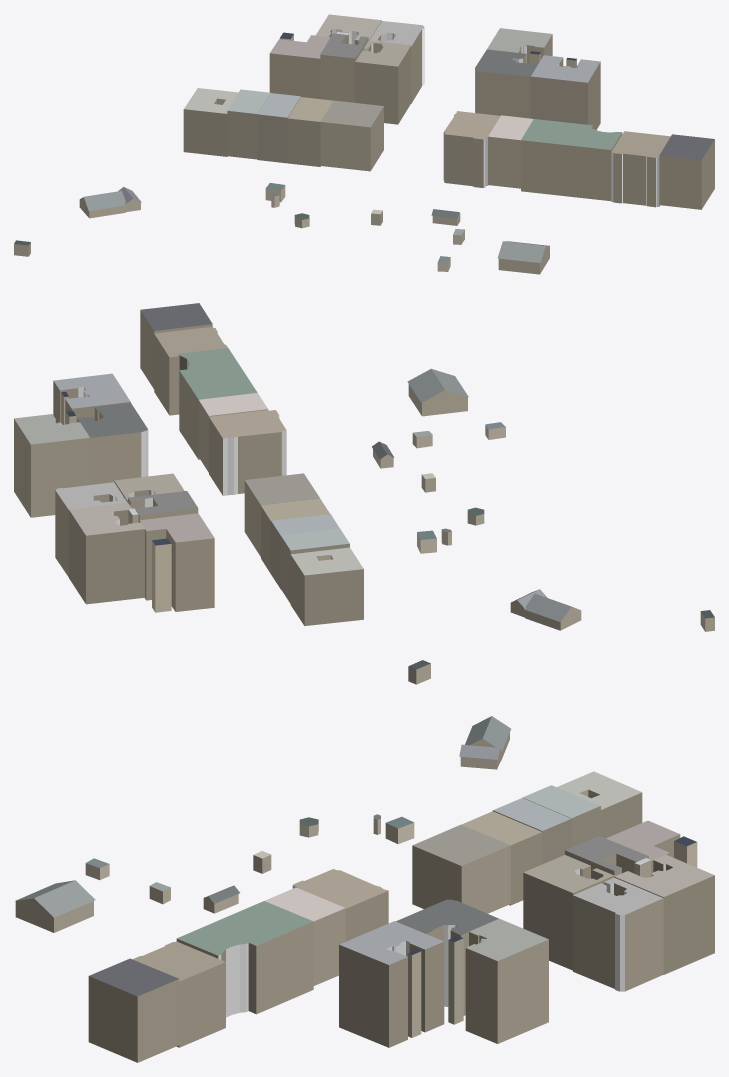
The picture shows the model from 3 angles, top to bottom: view 1: azimuth 30°, elevation 25°; view 2: azimuth 150°, elevation 25°; view 3: azimuth 270°, elevation 25°; orthographic projection. The views are drawn at different scales.
Visible parts, largest first — view 1: tuile; view 2: tuile; view 3: tuile.
Boxes of the visible parts, left/top/right/bottom form: tuile: left=14, top=14, right=714, bottom=274; tuile: left=14, top=303, right=714, bottom=631; tuile: left=14, top=660, right=714, bottom=1062.
Size of the model in its own units: 264 by 27.75 by 202.
